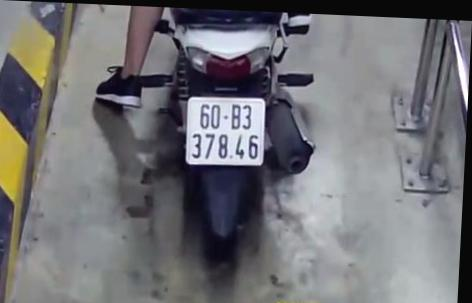License_Plate: (182, 93, 269, 174)
